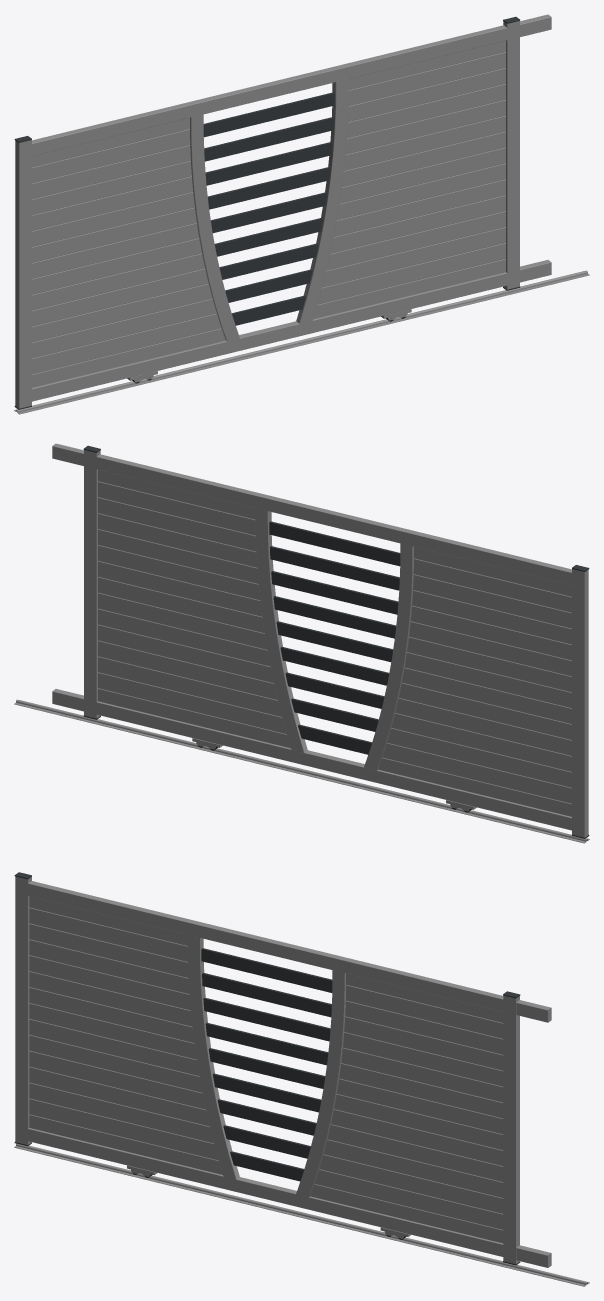
The picture shows the model from 3 angles, top to bottom: view 1: azimuth 30°, elevation 25°; view 2: azimuth 150°, elevation 25°; view 3: azimuth 330°, elevation 25°; orthographic projection.
Parts seen in each view (by area): view 1: Plane007, Shape107412186, Shape107412185, Pilar, Shape107413019, Pilar001, Rail, Shape107412183, Line133, Line148, Line132, Line147 (+26 smaller); view 2: Plane007, Shape107412186, Shape107412185, Pilar, Shape107413019, Pilar001, Rail, Shape107412183, Line133, Line148, Line132, Line147 (+26 smaller); view 3: Plane007, Shape107412186, Shape107412185, Pilar001, Pilar, Shape107412183, Rail, Shape107413019, Line133, Line148, Line132, Line147 (+26 smaller).
Boxes of the visible parts, <box> form: Plane007: <box>203,92,334,325</box>; Shape107412186: <box>32,14,551,156</box>; Shape107412185: <box>32,260,551,401</box>; Pilar: <box>15,140,31,408</box>; Shape107413019: <box>296,79,348,325</box>; Pilar001: <box>503,21,519,289</box>; Rail: <box>14,270,589,414</box>; Shape107412183: <box>190,114,239,345</box>; Line133: <box>32,313,221,374</box>; Line148: <box>317,243,505,304</box>; Line132: <box>32,298,216,358</box>; Line147: <box>322,227,505,287</box>; Plane007: <box>269,521,400,754</box>; Shape107412186: <box>52,443,571,585</box>; Shape107412185: <box>52,689,571,830</box>; Pilar: <box>572,569,588,837</box>; Shape107413019: <box>255,508,307,752</box>; Pilar001: <box>84,450,100,718</box>; Rail: <box>14,699,589,843</box>; Shape107412183: <box>364,543,413,770</box>; Line133: <box>382,743,571,803</box>; Line148: <box>98,672,286,733</box>; Line132: <box>387,728,571,787</box>; Line147: <box>98,656,281,716</box>; Plane007: <box>201,948,332,1181</box>; Shape107412186: <box>28,881,551,1022</box>; Shape107412185: <box>28,1128,551,1267</box>; Pilar001: <box>503,995,519,1264</box>; Pilar: <box>15,876,31,1144</box>; Shape107412183: <box>187,935,239,1181</box>; Rail: <box>14,1143,589,1286</box>; Shape107413019: <box>296,970,345,1201</box>; Line133: <box>29,1098,218,1160</box>; Line148: <box>315,1169,503,1229</box>; Line132: <box>29,1082,213,1143</box>; Line147: <box>319,1154,503,1213</box>.
Size of the model in its own units: 3600 by 1640 by 60.02.
5 materials, 2 textured.
